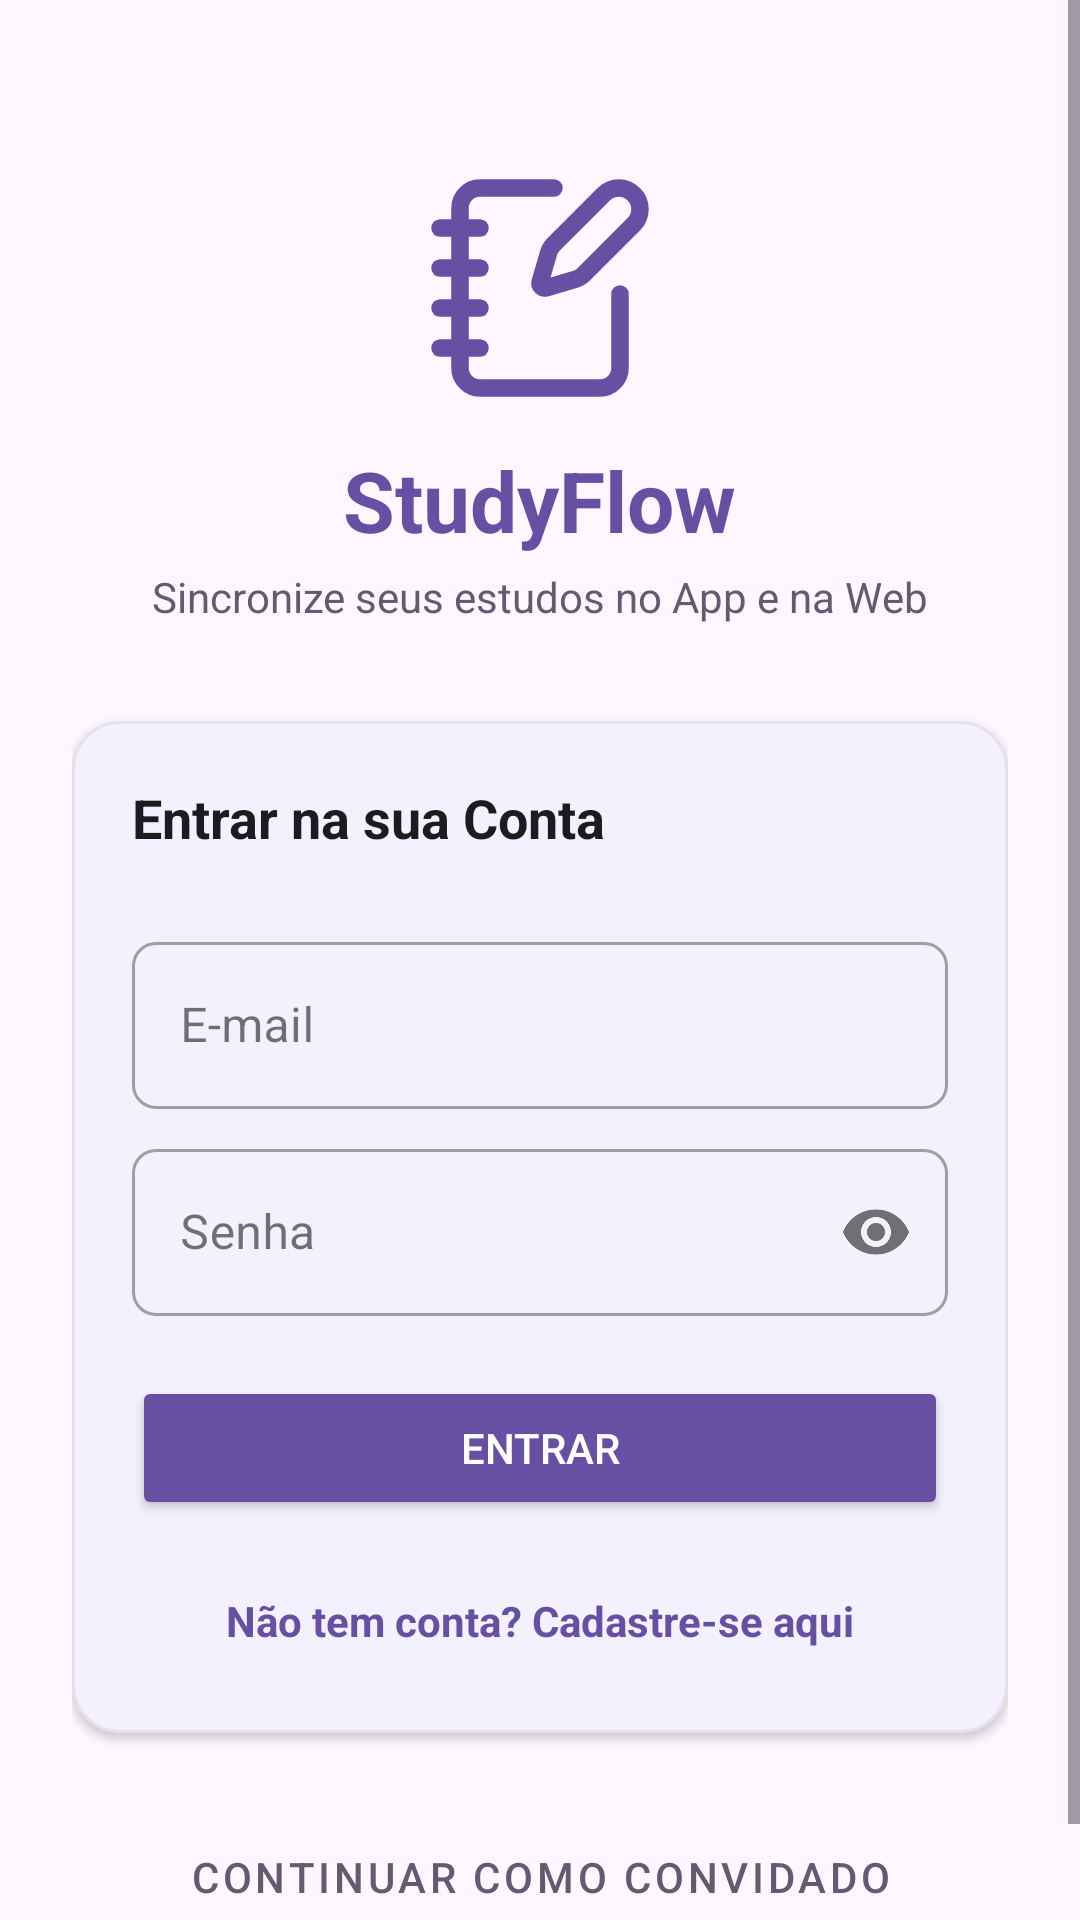

Named icons in this screenshot (1080×1920) and their bounding boxes, box(x1, y1, x2, y2):
anotacoes: box(431, 179, 649, 397)
